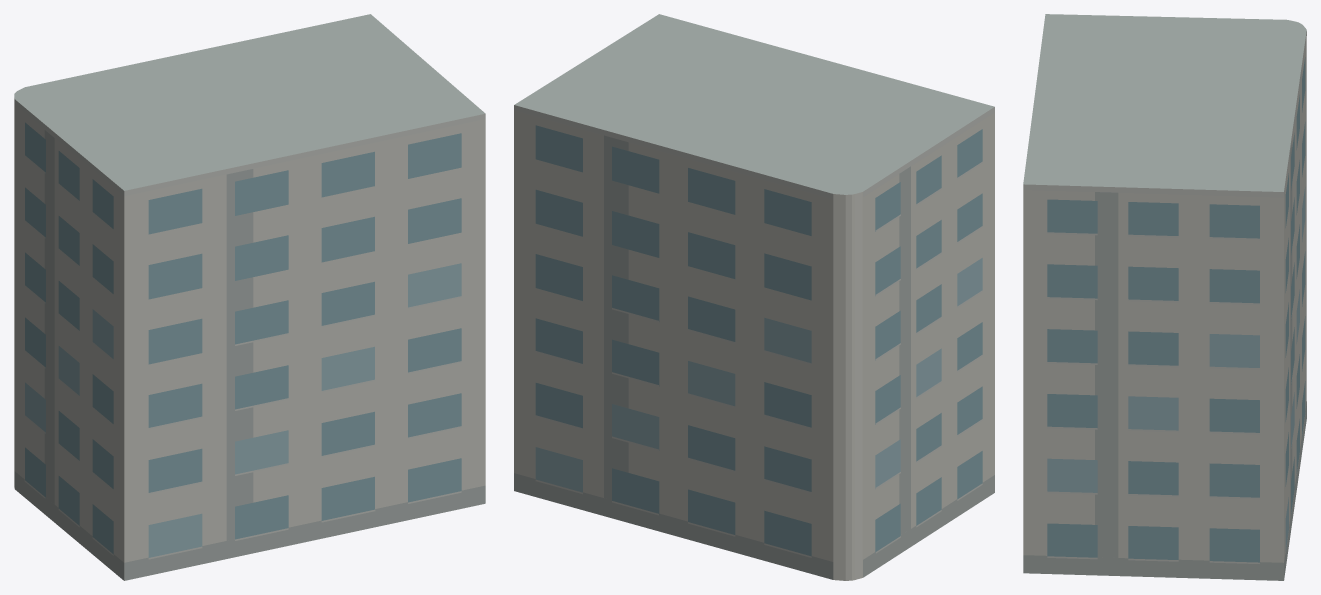
File: survey-upis-32885372.glb
The picture shows the model from 3 angles, left to right: view 1: azimuth 30°, elevation 25°; view 2: azimuth 150°, elevation 25°; view 3: azimuth 270°, elevation 25°; orthographic projection.
Parts seen in each view (by area): view 1: survey-upis-32885372.tmp; view 2: survey-upis-32885372.tmp; view 3: survey-upis-32885372.tmp.
Part boxes in pixels (x1,y1,x2,y2): survey-upis-32885372.tmp: [14, 14, 485, 580]; survey-upis-32885372.tmp: [514, 14, 994, 580]; survey-upis-32885372.tmp: [1023, 14, 1306, 580].
Bounding box in the file's own units: 17.05 × 17.35 × 11.48.
